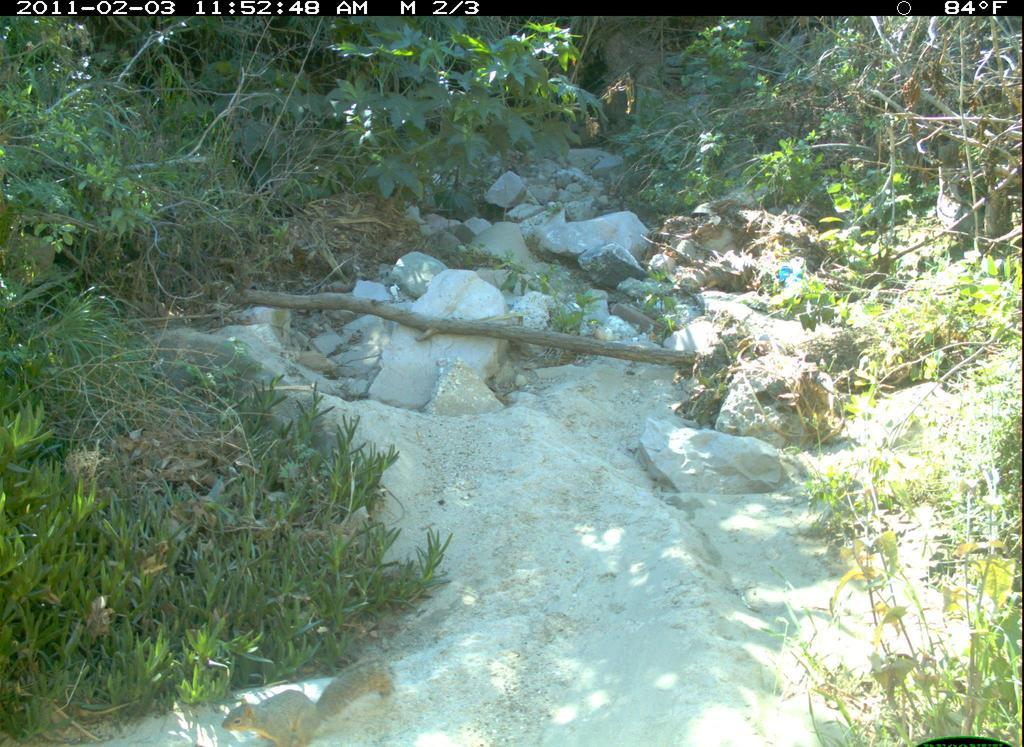squirrel: (219, 646, 404, 747)
